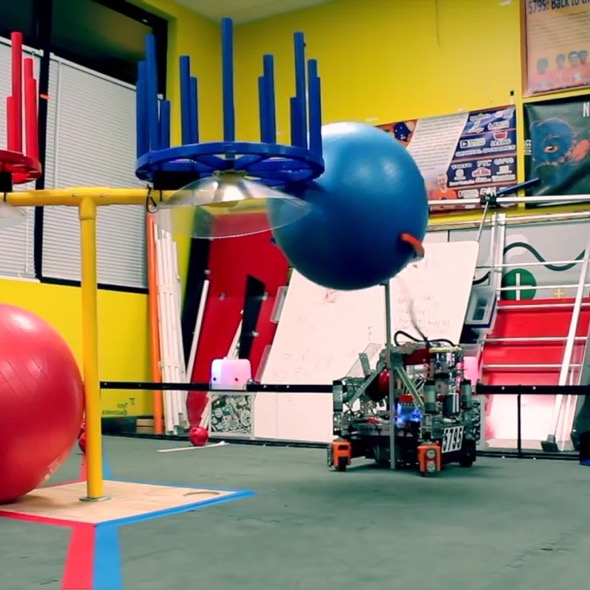ball: (184, 422, 210, 446)
robot: (329, 338, 484, 480)
yogaball: (263, 118, 432, 291), (0, 302, 88, 506)
